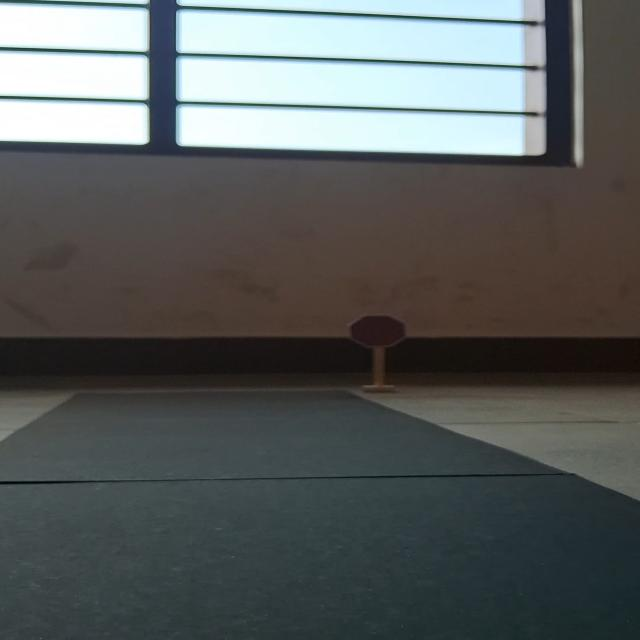Stop: (347, 314, 409, 348)
